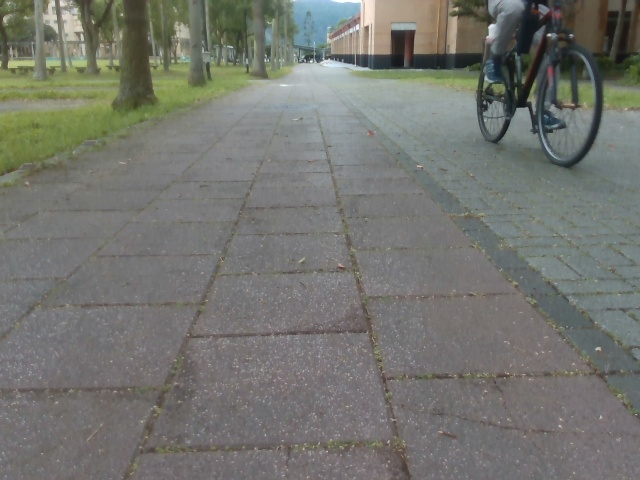grass: (0, 61, 295, 183), (0, 0, 188, 111), (205, 0, 350, 69), (348, 65, 479, 93), (593, 54, 639, 110)
road: (0, 66, 639, 479)
